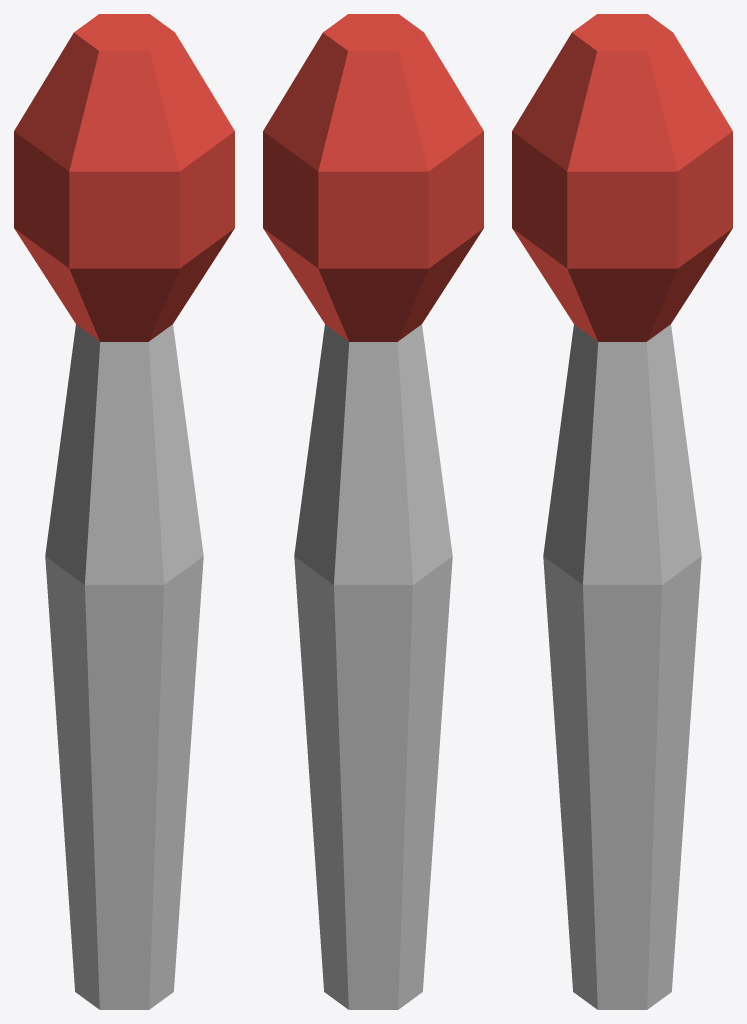
The model's file is Props_Lightstick.fbx.
3 views of the same model, side by side, from view 1: azimuth 30°, elevation 25°; view 2: azimuth 150°, elevation 25°; view 3: azimuth 270°, elevation 25° (orthographic).
Parts seen in each view (by area): view 1: Cylinder.022; view 2: Cylinder.022; view 3: Cylinder.022.
Boxes of the visible parts, x1=… form: Cylinder.022: x1=14, y1=14, x2=234, y2=1009; Cylinder.022: x1=263, y1=14, x2=483, y2=1009; Cylinder.022: x1=512, y1=14, x2=732, y2=1009.
Size of the model in its own units: 9.57 by 11.05 by 52.93.
